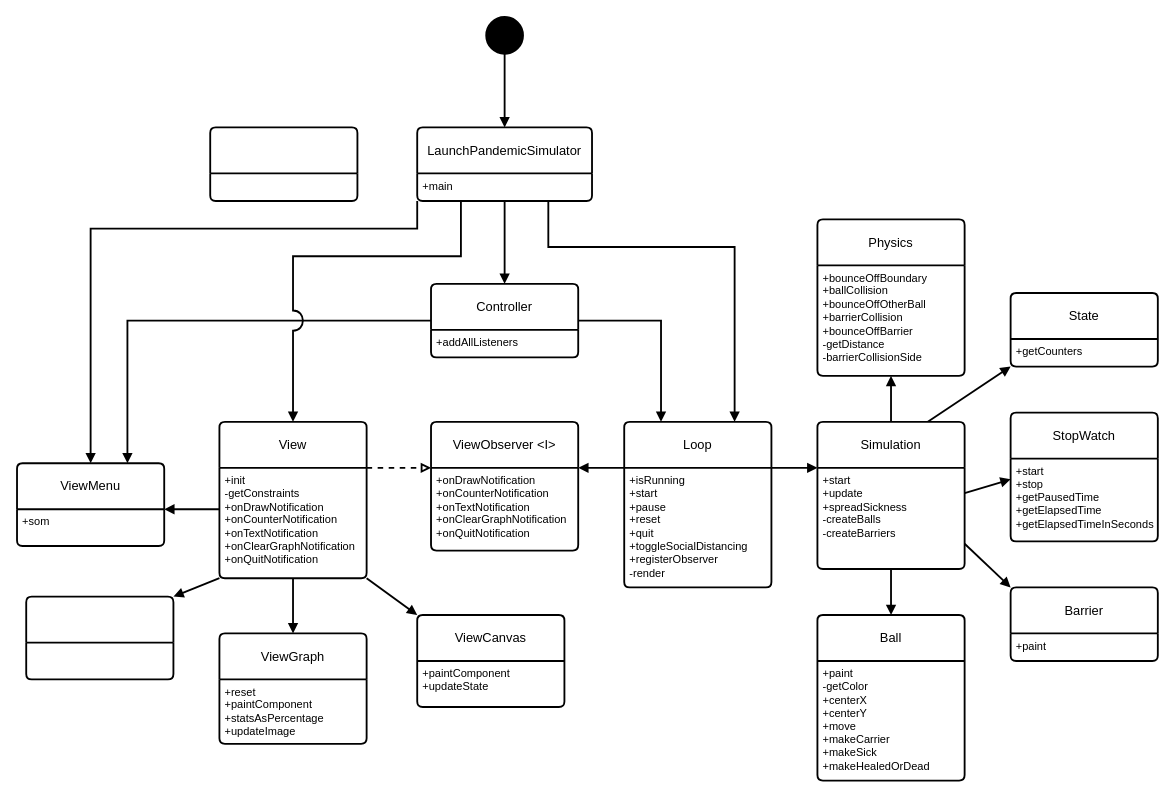
Some shapes in this 1174 by 797 pixel diagram are drawn without their labels. Here are the shapes that lost their labels. From the top down, the centre of each, then its label:
At (x=283, y=163): "<<global>> Constants".
At (x=99, y=637): "ViewStats".
